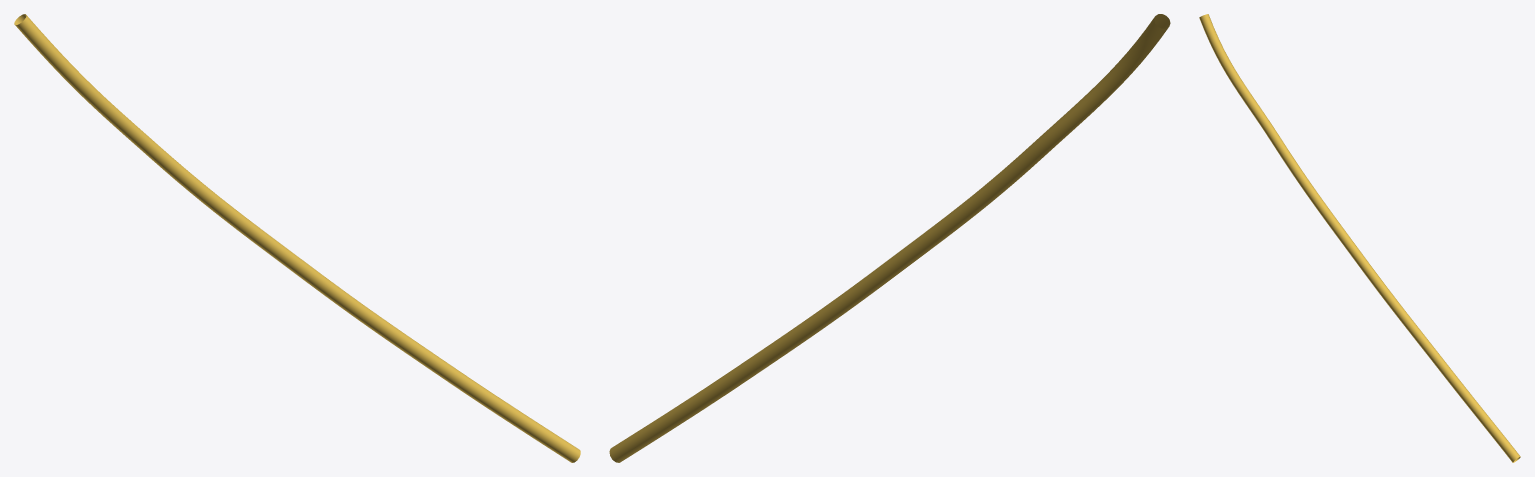
File: Medial_cord_brachial_plexus_left.glb
3 views of the same model, side by side, from view 1: azimuth 30°, elevation 25°; view 2: azimuth 150°, elevation 25°; view 3: azimuth 330°, elevation 25° (orthographic). The views are drawn at different scales.
Visible parts, largest first — view 1: Medial_cord_of_brachial_plexus.l_BezierCurve.511; view 2: Medial_cord_of_brachial_plexus.l_BezierCurve.511; view 3: Medial_cord_of_brachial_plexus.l_BezierCurve.511.
Boxes of the visible parts, box(x1,y1,x2,y2) form: Medial_cord_of_brachial_plexus.l_BezierCurve.511: box(14, 14, 580, 462); Medial_cord_of_brachial_plexus.l_BezierCurve.511: box(609, 14, 1170, 462); Medial_cord_of_brachial_plexus.l_BezierCurve.511: box(1199, 14, 1520, 462).
Size of the model in its own units: 0.0391 by 0.0386 by 0.00532.
